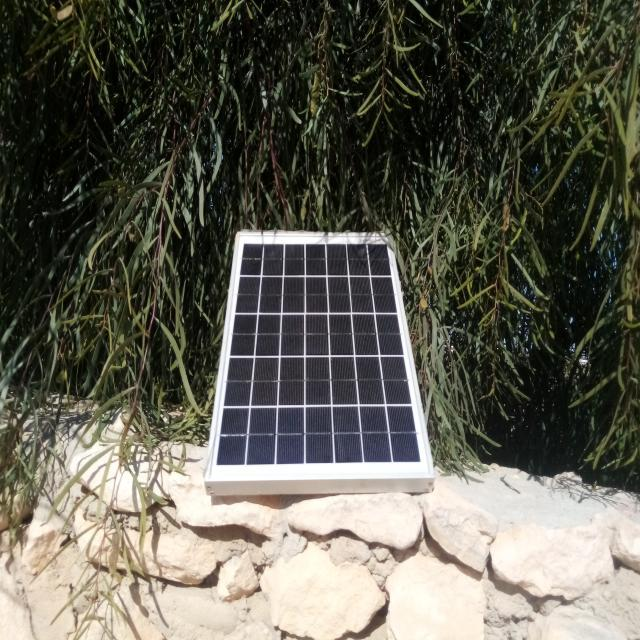no faulty: (209, 236, 429, 478)
